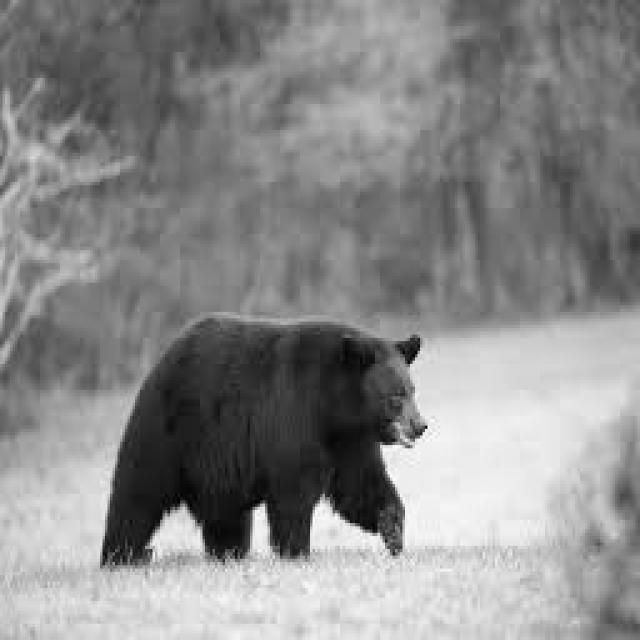Bear: (137, 313, 418, 564)
